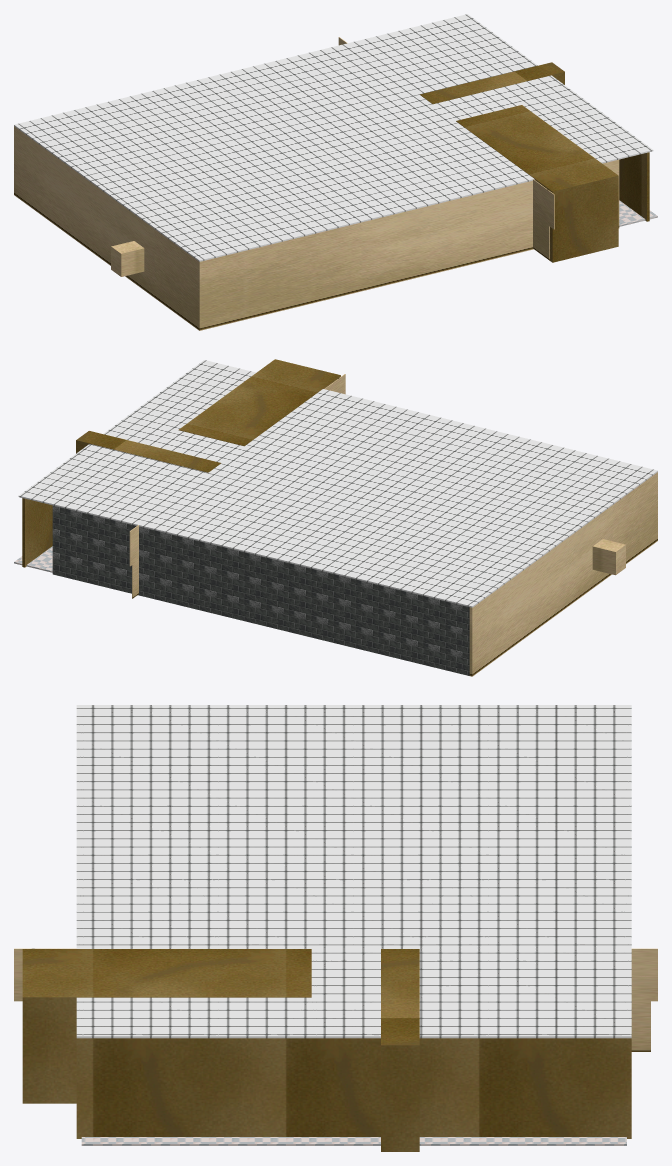
Rendered from MOI_brush.glb.
The picture shows the model from 3 angles, top to bottom: view 1: azimuth 30°, elevation 25°; view 2: azimuth 150°, elevation 25°; view 3: azimuth 270°, elevation 25°; orthographic projection. The views are drawn at different scales.
Visible parts, largest first — view 1: MOI; view 2: MOI; view 3: MOI.
Boxes of the visible parts, x1,y1,x2,y2 form: MOI: (14, 14, 657, 330); MOI: (14, 359, 657, 676); MOI: (14, 705, 657, 1151).
Size of the model in its own units: 2806 by 462 by 2135.
14 materials, 14 textured.
